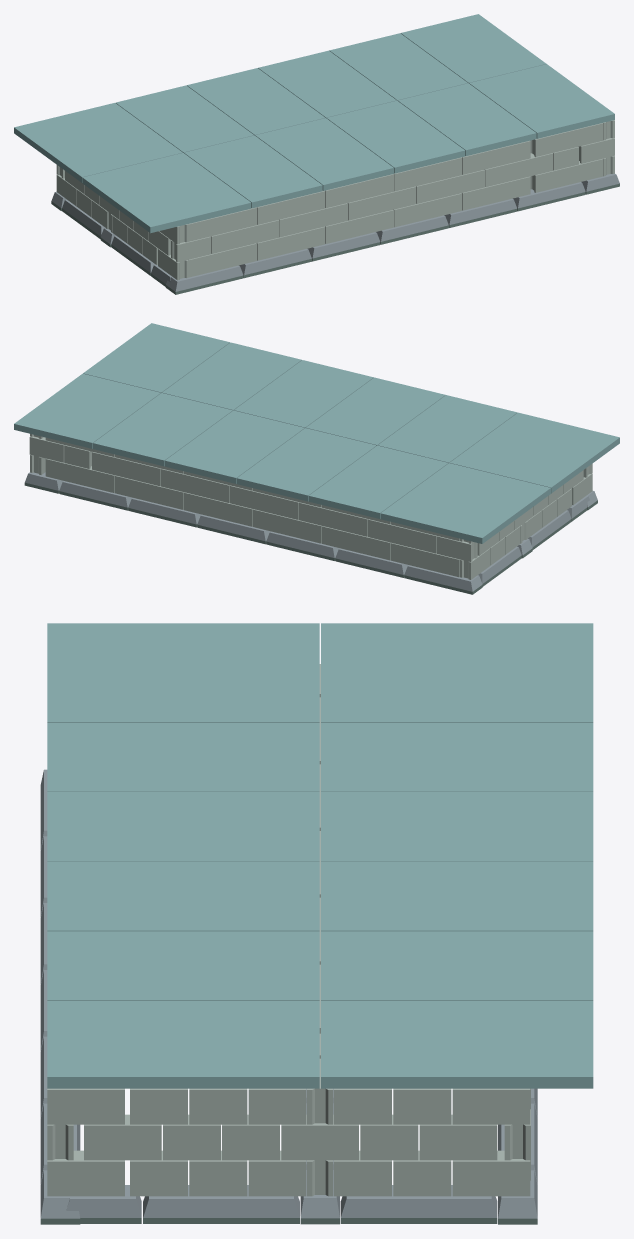
File: pavilion.glb
3 renders of one model, top to bottom at view 1: azimuth 30°, elevation 25°; view 2: azimuth 150°, elevation 25°; view 3: azimuth 270°, elevation 25°, orthographic. The views are drawn at different scales.
Visible parts, largest first — view 1: Пм2 (×8), СБ1 (×17), Пм1 (×2), Пм3 (×2), ФЛ1 (×8), СБ2 (×4), СБ3, ФЛ2; view 2: Пм2 (×8), Пм1 (×2), СБ1 (×11), Пм3 (×2), ФЛ1 (×8), СБ2 (×4), СБ3, ФЛ2; view 3: Пм2 (×8), Пм1 (×2), Пм3 (×2), СБ3 (×13), СБ2 (×11), ФЛ1 (×2), ФЛ2 (×4), ПП (×2).
Part boxes in pixels (left/top/right/bottom): Пм2 (×8): left=116, top=33, right=536, bottom=208; СБ1 (×17): left=188, top=123, right=603, bottom=277; Пм1 (×2): left=14, top=103, right=251, bottom=233; Пм3 (×2): left=400, top=14, right=614, bottom=138; ФЛ1 (×8): left=62, top=182, right=585, bottom=291; СБ2 (×4): left=56, top=138, right=614, bottom=280; СБ3: left=553, top=147, right=578, bottom=170; ФЛ2: left=581, top=173, right=619, bottom=191; Пм2 (×8): left=93, top=342, right=517, bottom=518; Пм1 (×2): left=380, top=412, right=619, bottom=543; СБ1 (×11): left=45, top=452, right=459, bottom=577; Пм3 (×2): left=14, top=323, right=229, bottom=448; ФЛ1 (×8): left=59, top=481, right=571, bottom=591; СБ2 (×4): left=29, top=436, right=592, bottom=579; СБ3: left=64, top=445, right=91, bottom=468; ФЛ2: left=25, top=472, right=63, bottom=490; Пм2 (×8): left=47, top=722, right=593, bottom=1000; Пм1 (×2): left=47, top=623, right=593, bottom=722; Пм3 (×2): left=47, top=1001, right=593, bottom=1088; СБ3 (×13): left=130, top=1088, right=451, bottom=1196; СБ2 (×11): left=47, top=1058, right=530, bottom=1196; ФЛ1 (×2): left=143, top=1185, right=497, bottom=1217; ФЛ2 (×4): left=40, top=1170, right=537, bottom=1218; ПП (×2): left=143, top=1218, right=497, bottom=1223.
Size of the model in its own units: 16.4 by 2.42 by 8.39.
